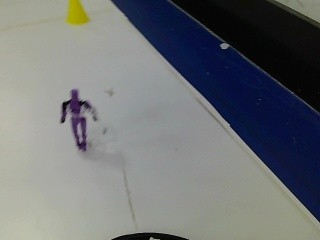cone: (63, 0, 93, 26)
pedestrian: (49, 84, 103, 158)
